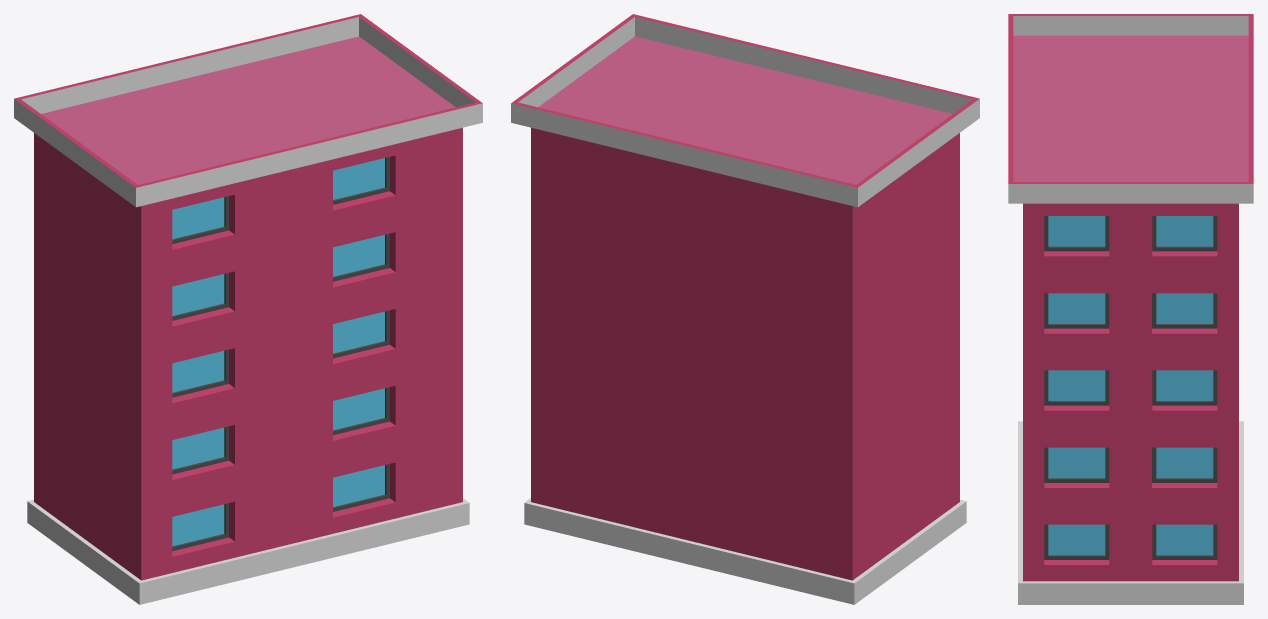
The model's file is bldg_apartment.fbx.
The picture shows the model from 3 angles, left to right: view 1: azimuth 30°, elevation 25°; view 2: azimuth 150°, elevation 25°; view 3: azimuth 270°, elevation 25°; orthographic projection.
Parts seen in each view (by area): view 1: building_005; view 2: building_005; view 3: building_005.
Boxes of the visible parts, left/top/right/bottom form: building_005: left=14, top=14, right=482, bottom=604; building_005: left=511, top=14, right=979, bottom=604; building_005: left=1008, top=14, right=1253, bottom=604.
Bounding box in the file's own units: 7.98 × 9.29 × 4.86.
